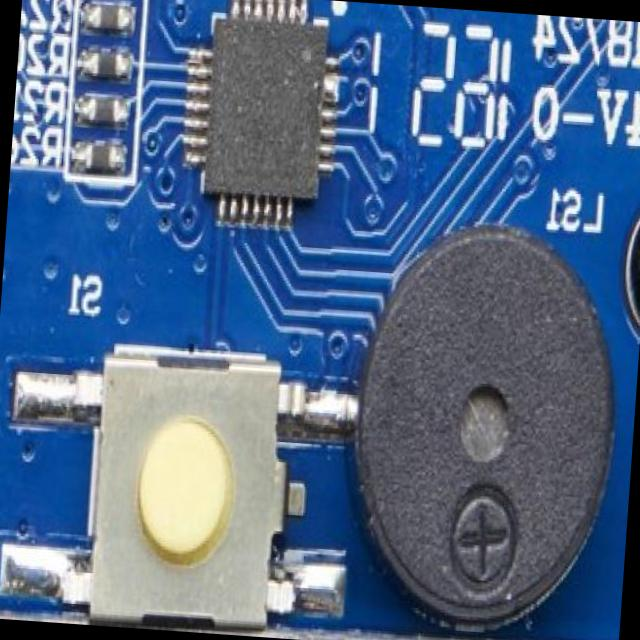IC: (184, 11, 336, 220)
resistor: (80, 44, 124, 81), (78, 140, 120, 176), (81, 1, 129, 32), (82, 92, 124, 126)
